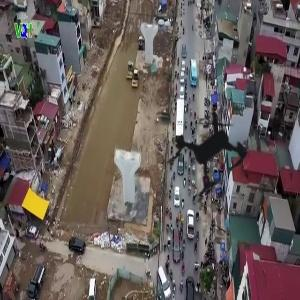drone: (123, 64, 294, 235)
